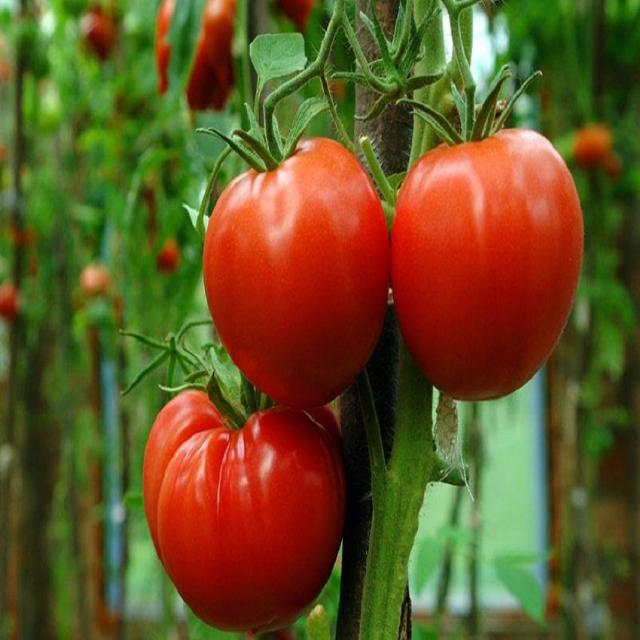level 6: (390, 125, 586, 402), (205, 135, 393, 408), (145, 376, 345, 632)
